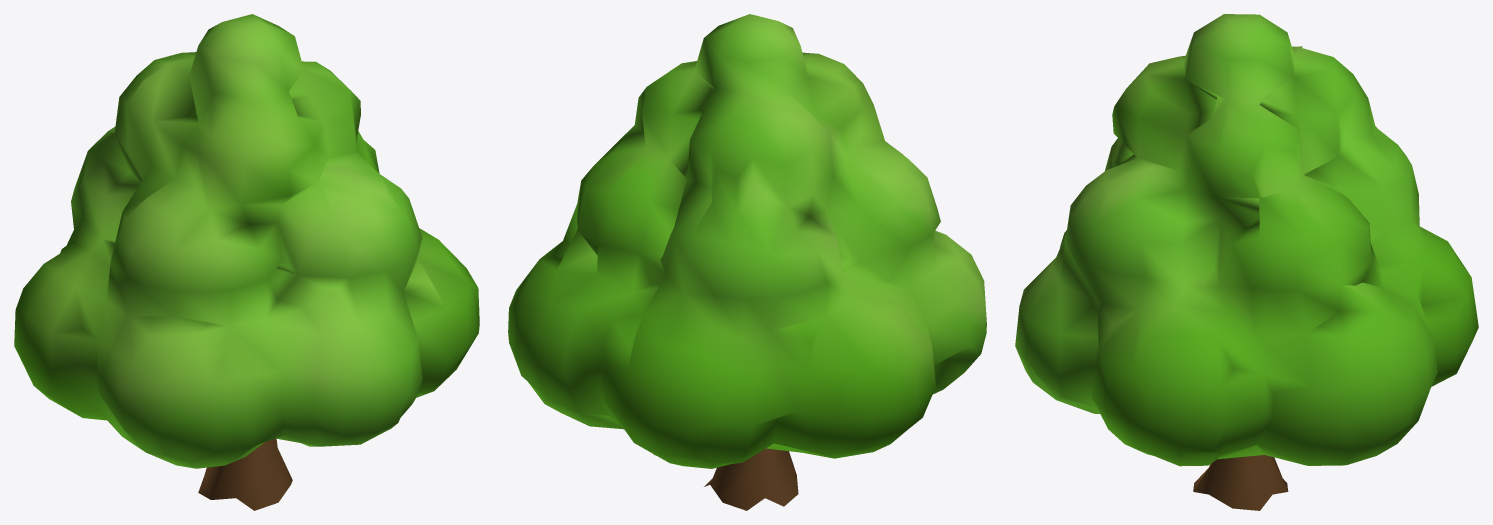
The model's file is pine-tree-105-lod2.obj.
3 views of the same model, side by side, from view 1: azimuth 30°, elevation 25°; view 2: azimuth 150°, elevation 25°; view 3: azimuth 270°, elevation 25° (orthographic).
Visible parts, largest first — view 1: simplified; view 2: simplified; view 3: simplified.
Boxes of the visible parts, x1,y1,x2,y2 form: simplified: (14,14,479,510); simplified: (508,14,986,510); simplified: (1015,14,1478,510).
Bounding box in the file's own units: 272 × 315 × 280.
